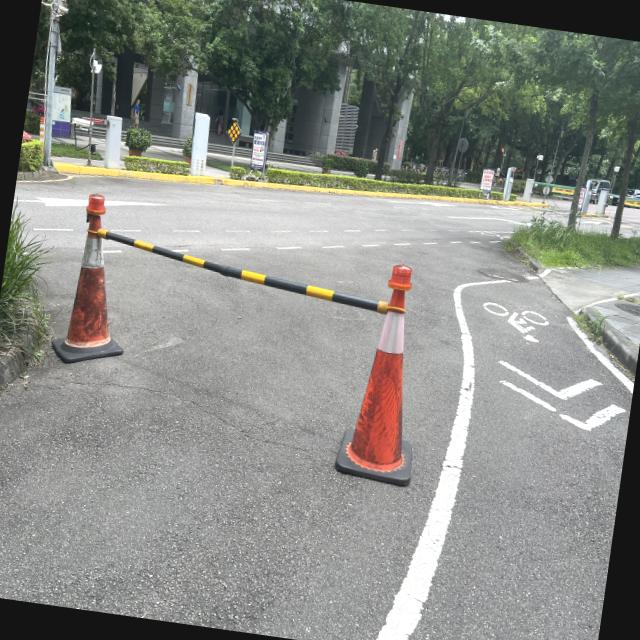cone: (336, 256, 436, 486), (46, 184, 139, 378)
